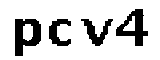4: (115, 6, 152, 49)
c: (48, 19, 75, 50)
p: (9, 15, 42, 57)
v: (80, 16, 113, 50)
